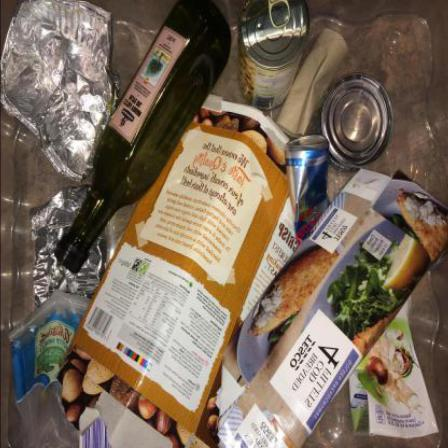Aluminium foil: (2, 3, 122, 185), (30, 185, 108, 313)
Bottle: (55, 2, 232, 275)
Bottle cap: (55, 243, 84, 275)
Can: (239, 1, 312, 111), (317, 74, 395, 174), (284, 136, 331, 248)
Carton: (58, 95, 299, 448), (217, 169, 448, 448), (350, 301, 439, 440), (275, 29, 349, 139)
Plastic bag - wrapper: (7, 290, 92, 448)
Pop tab: (267, 2, 291, 29)
